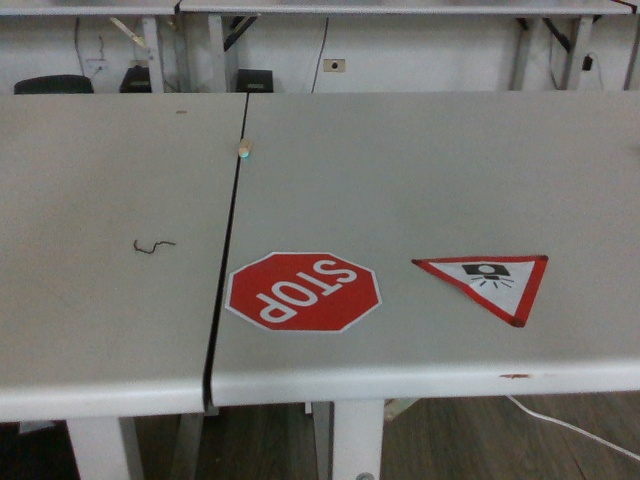camera: (404, 253, 556, 331)
stop: (223, 247, 385, 335)
